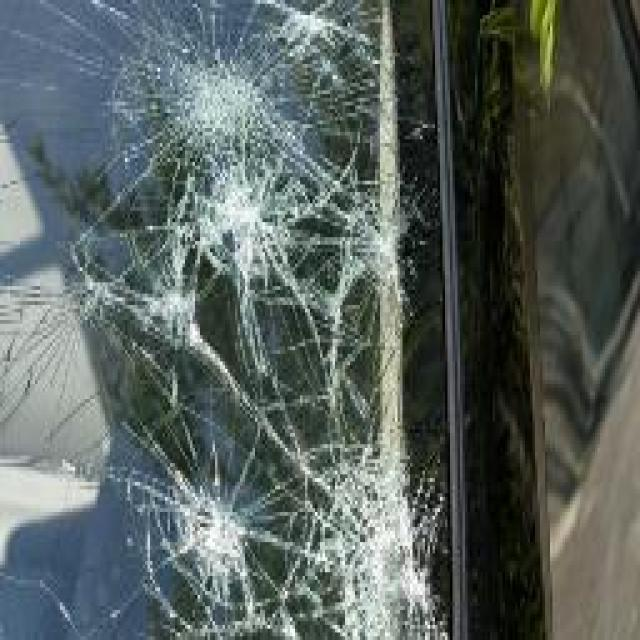Windshield: (2, 0, 465, 640)
